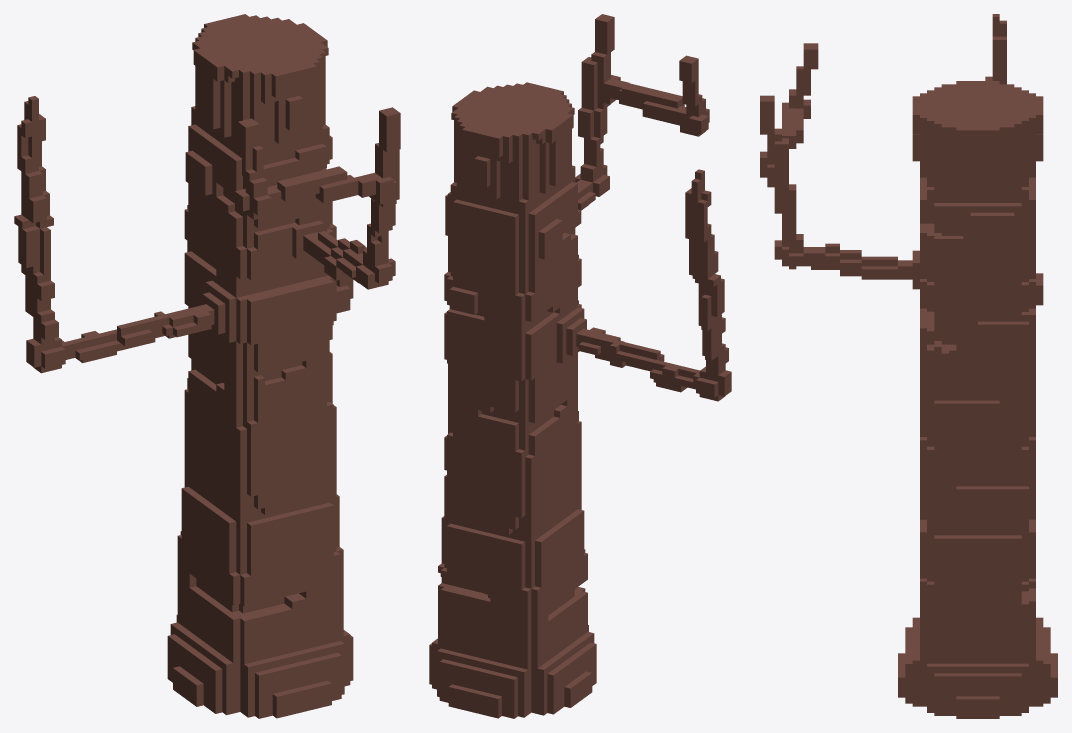
The model's file is trunk_1.dae.
3 views of the same model, side by side, from view 1: azimuth 30°, elevation 25°; view 2: azimuth 150°, elevation 25°; view 3: azimuth 270°, elevation 25° (orthographic). The views are drawn at different scales.
Visible parts, largest first — view 1: trunk_1; view 2: trunk_1; view 3: trunk_1.
Part boxes in pixels (x1,y1,x2,y2): trunk_1: (14, 14, 400, 718); trunk_1: (429, 14, 731, 718); trunk_1: (760, 14, 1057, 718).
Bounding box in the file's own units: 4.5 × 4.1 × 9.
1 material, 1 textured.
